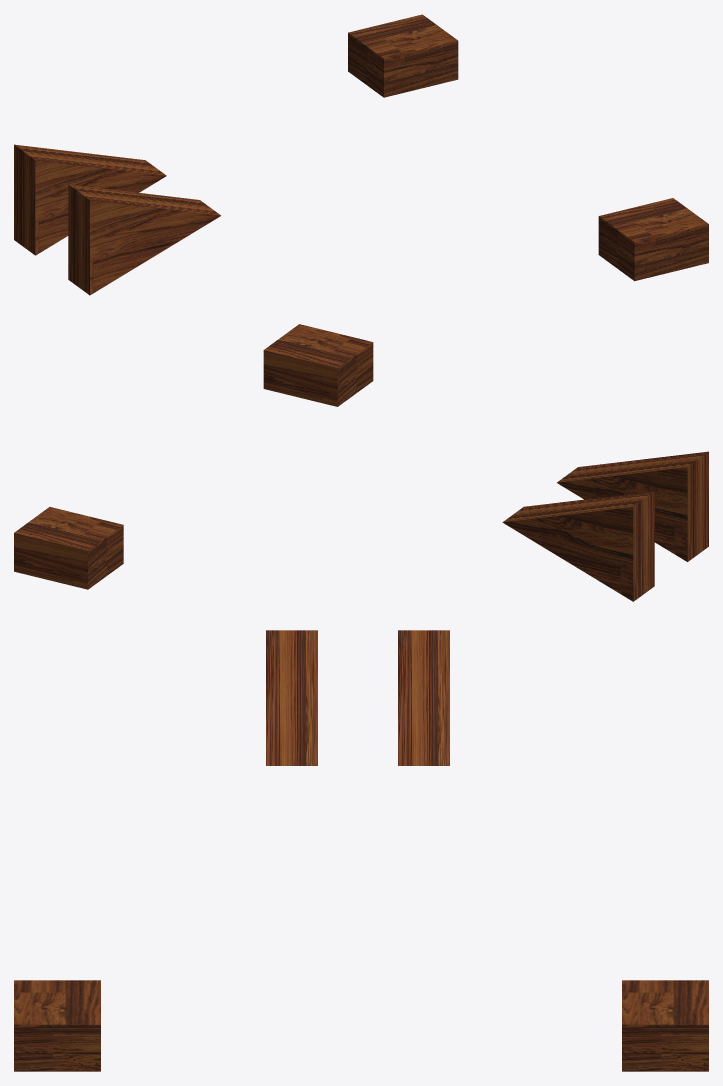
The model's file is Pusher_Mount.fbx.
The picture shows the model from 3 angles, top to bottom: view 1: azimuth 30°, elevation 25°; view 2: azimuth 150°, elevation 25°; view 3: azimuth 270°, elevation 25°; orthographic projection. The views are drawn at different scales.
Parts seen in each view (by area): view 1: Pusher_Mount; view 2: Pusher_Mount; view 3: Pusher_Mount.
Boxes of the visible parts, x1,y1,x2,y2 form: Pusher_Mount: [14, 14, 708, 295]; Pusher_Mount: [14, 324, 708, 601]; Pusher_Mount: [14, 630, 708, 1071].
Bounding box in the file's own units: 208 × 43.37 × 200.
